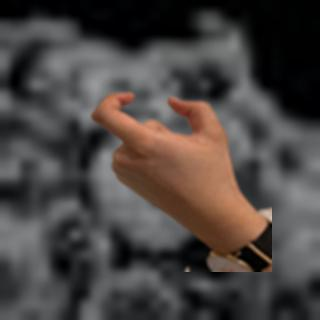HATE: (84, 87, 243, 232)
